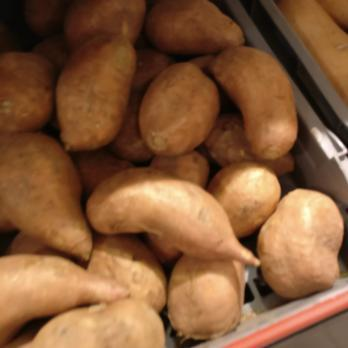Sweet potato: (4, 2, 235, 348), (226, 164, 344, 300), (201, 49, 299, 159)
